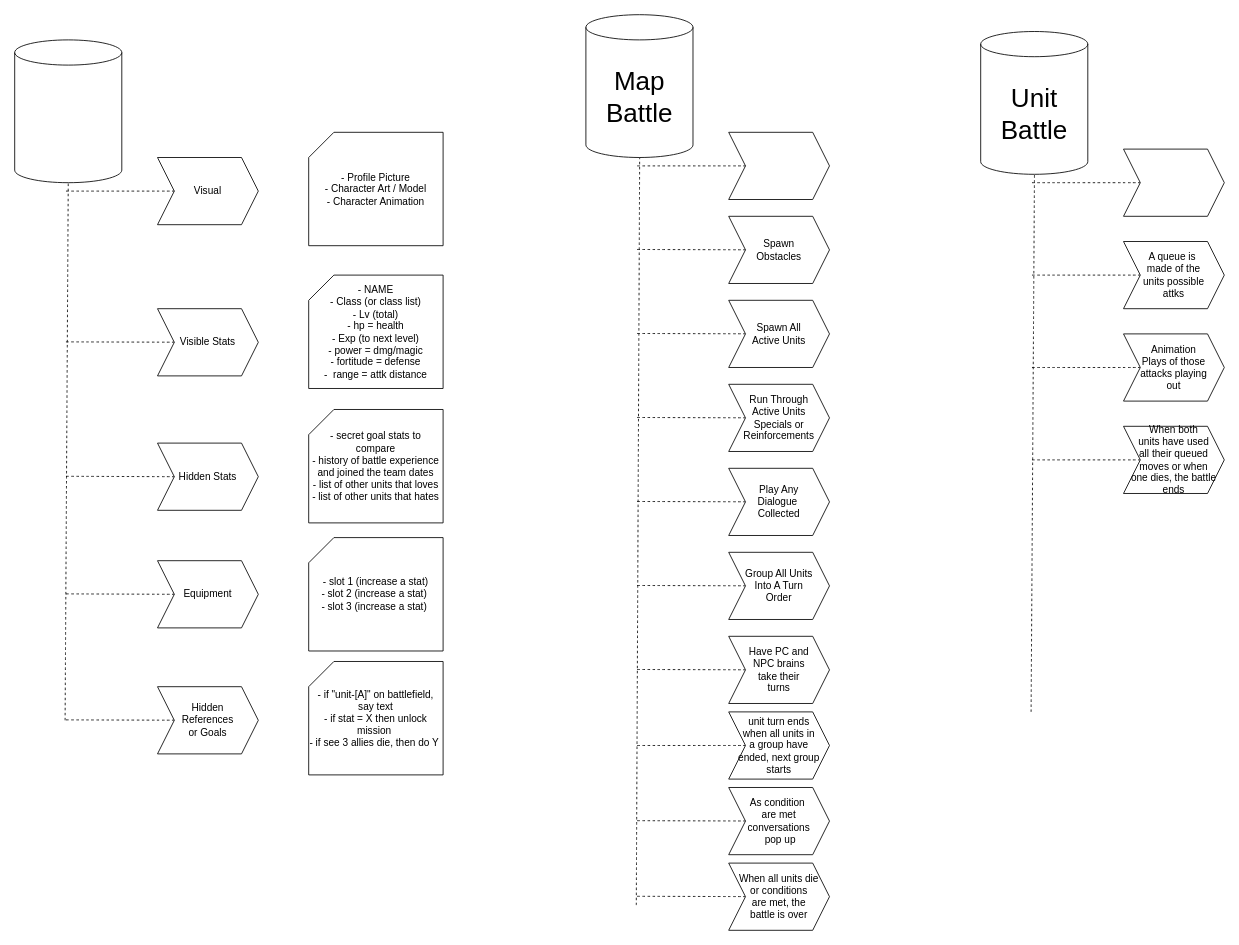
Image size: 1239x945. Some labels were removed from this diagram. Here are the shapes that lost their labels. From the top down, the box of each, then its label:
(14, 39, 122, 183): Unit
(728, 131, 830, 200): Spawn Map
(1123, 148, 1224, 216): One Unit Atks Another Unit
